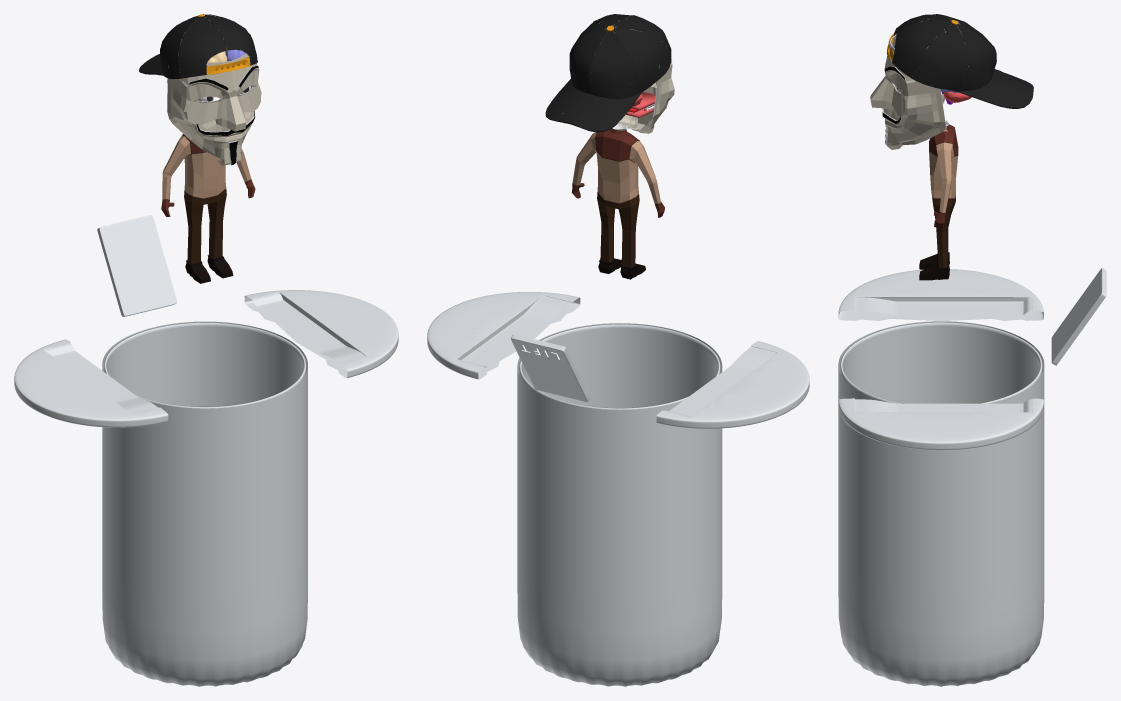
The model's file is arno_appearance_arno_showcase.gltf.
The picture shows the model from 3 angles, left to right: view 1: azimuth 30°, elevation 25°; view 2: azimuth 150°, elevation 25°; view 3: azimuth 270°, elevation 25°; orthographic projection.
Visible parts, largest first — view 1: Cylinder.001, Arno, Cylinder.002, Cylinder, Cylinder.003, Cube; view 2: Cylinder.001, Arno, Cylinder.002, Cylinder, Cylinder.003, Cube; view 3: Cylinder.001, Arno, Cylinder.002, Cylinder.003, Cylinder, Cube.
Boxes of the visible parts, x1,y1,x2,y2 form: Cylinder.001: (102, 321, 307, 686); Arno: (139, 14, 261, 283); Cylinder.002: (104, 322, 305, 408); Cylinder: (244, 290, 398, 377); Cylinder.003: (14, 339, 168, 427); Cube: (97, 215, 176, 316); Cylinder.001: (517, 323, 722, 686); Arno: (545, 14, 674, 279); Cylinder.002: (519, 324, 720, 409); Cylinder: (427, 292, 580, 379); Cylinder.003: (656, 341, 809, 428); Cube: (510, 334, 589, 402); Cylinder.001: (838, 321, 1044, 686); Arno: (870, 14, 1033, 280); Cylinder.002: (840, 322, 1042, 403); Cylinder.003: (838, 269, 1043, 320); Cylinder: (838, 398, 1043, 450); Cube: (1051, 268, 1106, 365).
Size of the model in its own units: 7.12 by 12.21 by 4.63.
